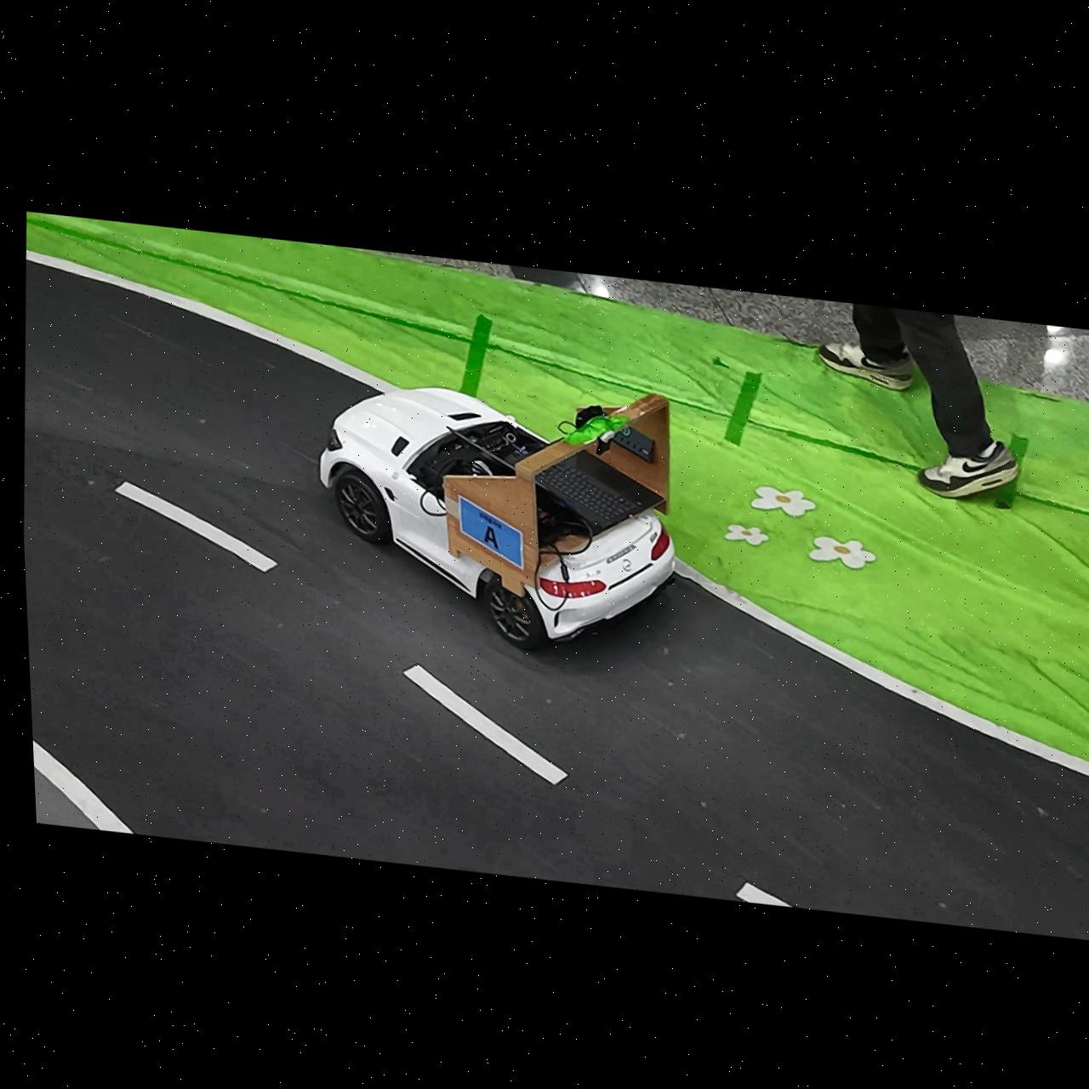broken_line: (403, 664, 566, 784), (115, 481, 276, 571), (737, 882, 792, 906)
